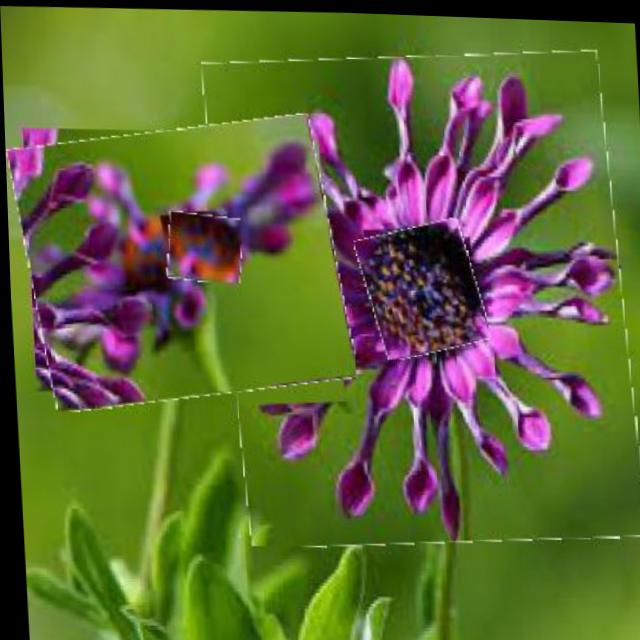Flower: (205, 38, 638, 554), (11, 112, 348, 411), (358, 216, 484, 356), (162, 209, 241, 281)
